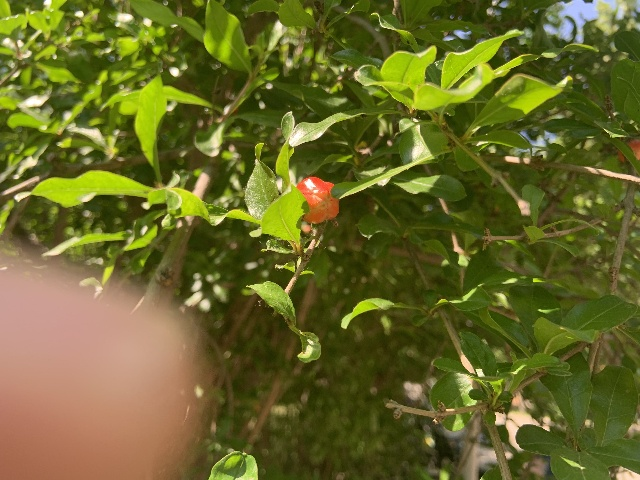bud: (295, 176, 339, 224)
